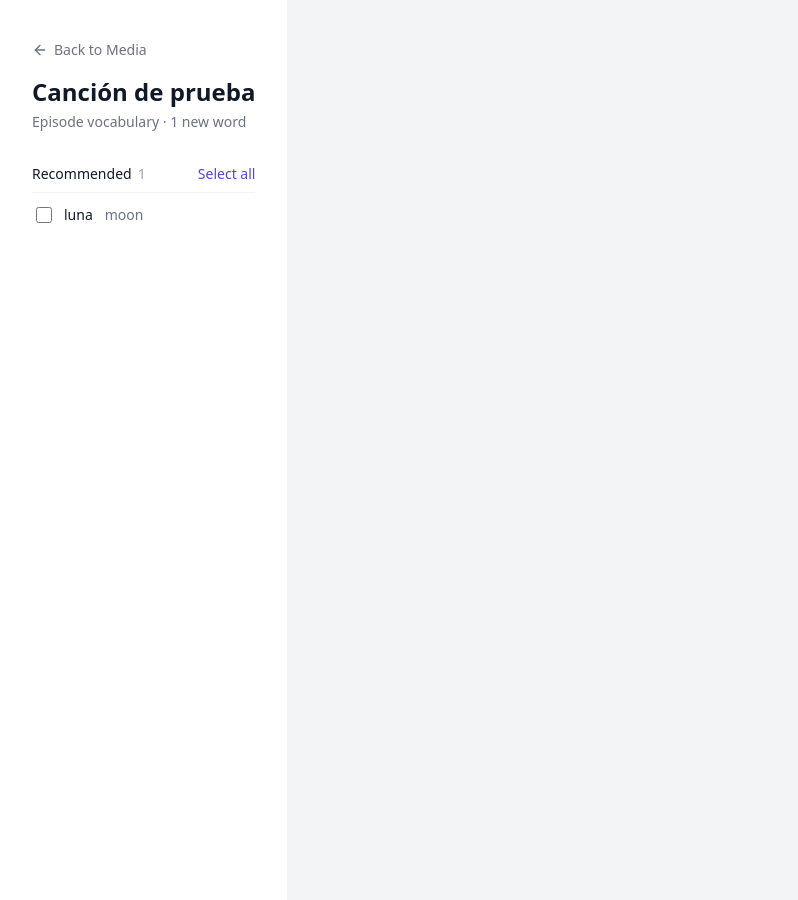
Test: lists the words when there are some
Expected: the text "Recommended" is shown, top-left (32, 164), bottom-right (132, 183)
Expected: the text "Episode vocabulary · 1 new word" is shown, top-left (32, 112), bottom-right (255, 132)
Click the text "luna" at point(78, 215), box top-left (64, 205), bottom-right (93, 225)
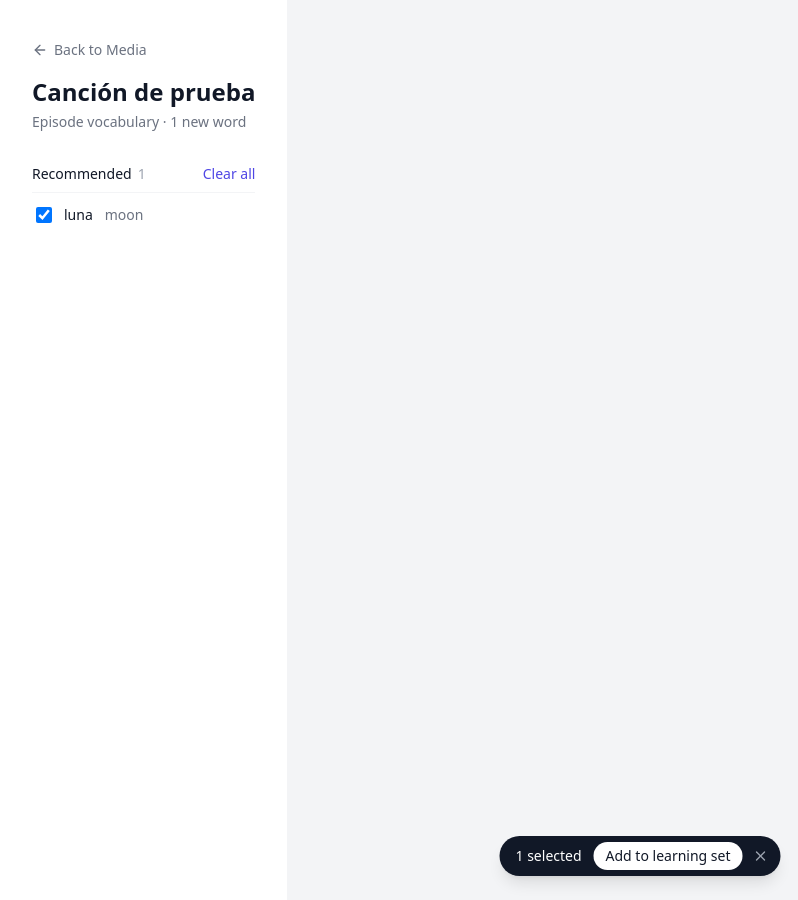
Expected: the text "1 selected" is shown, top-left (516, 846), bottom-right (582, 866)
Expected: the button "Add to learning set" is shown, top-left (594, 842), bottom-right (742, 870)
